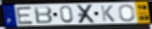0: (59, 5, 74, 24)
B: (33, 6, 54, 25)
E: (16, 6, 36, 25)
K: (100, 5, 117, 23)
O: (117, 4, 136, 22)
X: (76, 4, 97, 25)
